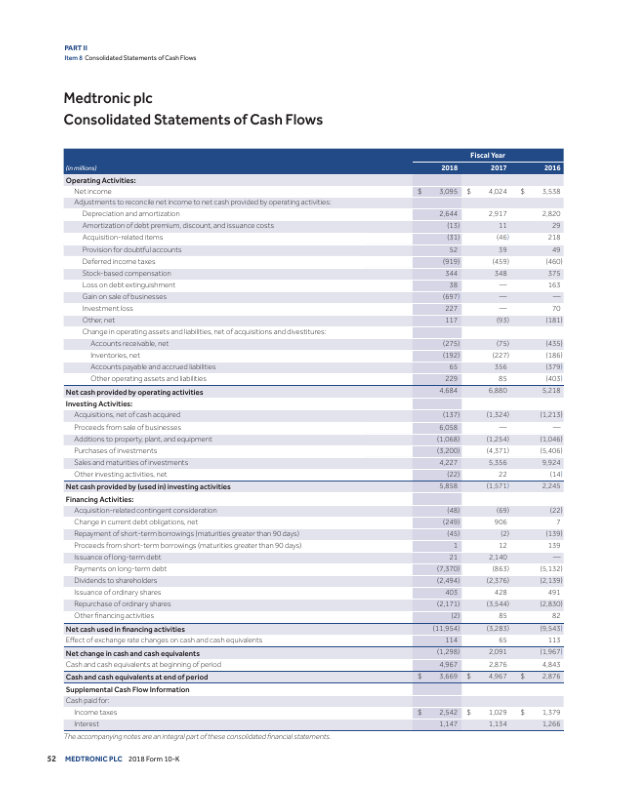table: (63, 147, 561, 733)
